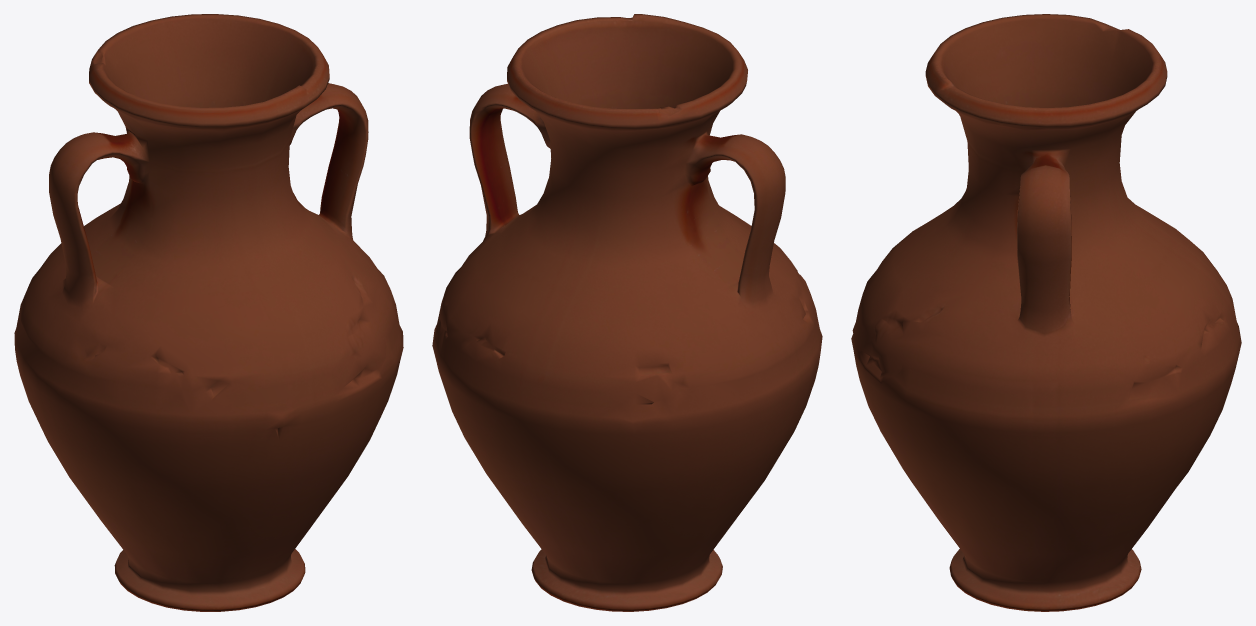
File: anfora.fbx
3 renders of one model, left to right at view 1: azimuth 30°, elevation 25°; view 2: azimuth 150°, elevation 25°; view 3: azimuth 270°, elevation 25°, orthographic.
Visible parts, largest first — view 1: tripo_node_7c28e252; view 2: tripo_node_7c28e252; view 3: tripo_node_7c28e252.
Part boxes in pixels (<box>): tripo_node_7c28e252: <box>14,14,403,611</box>; tripo_node_7c28e252: <box>432,14,822,611</box>; tripo_node_7c28e252: <box>851,14,1241,611</box>.
Bounding box in the file's own units: 0.6909 × 0.9995 × 0.6909.
1 material, 1 textured.
